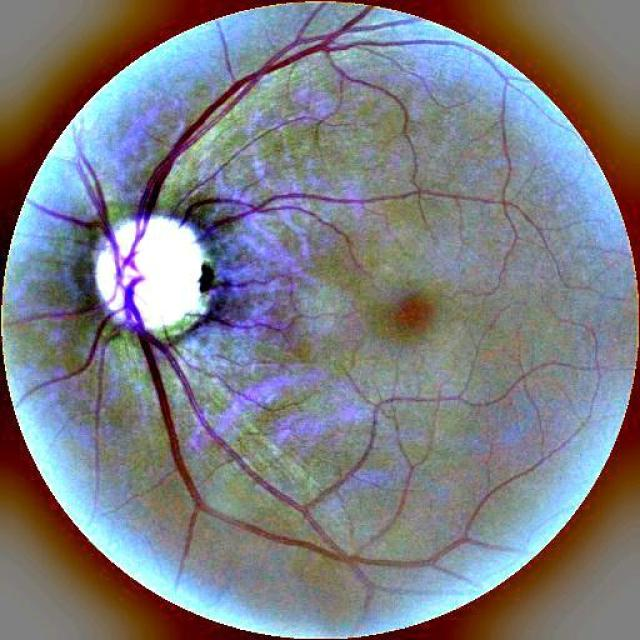Macula: (388, 292, 436, 335)
Nerves: (42, 33, 484, 577)
Optic Disk: (95, 215, 214, 338)
